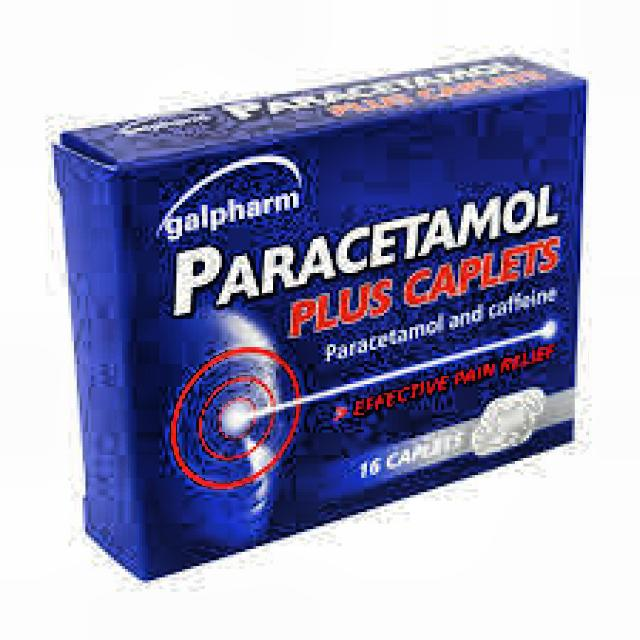Paracetamol: (145, 190, 570, 376)
